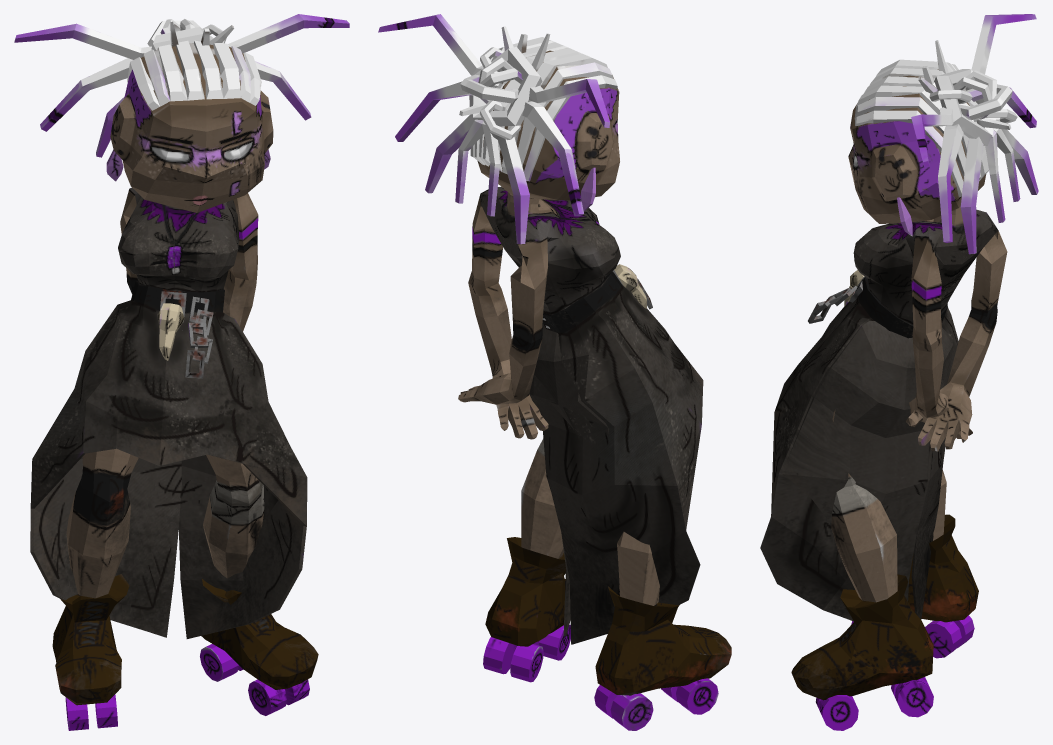
Rendered from bruja_000047.obj.
3 views of the same model, side by side, from view 1: azimuth 30°, elevation 25°; view 2: azimuth 150°, elevation 25°; view 3: azimuth 270°, elevation 25° (orthographic). The views are drawn at different scales.
Visible parts, largest first — view 1: Bruja_Plane.001; view 2: Bruja_Plane.001; view 3: Bruja_Plane.001.
Part boxes in pixels (x1=…): Bruja_Plane.001: x1=14, y1=14, x2=349, y2=730; Bruja_Plane.001: x1=378, y1=14, x2=731, y2=730; Bruja_Plane.001: x1=760, y1=14, x2=1038, y2=730.
Size of the model in its own units: 8.01 by 16.03 by 6.15.
